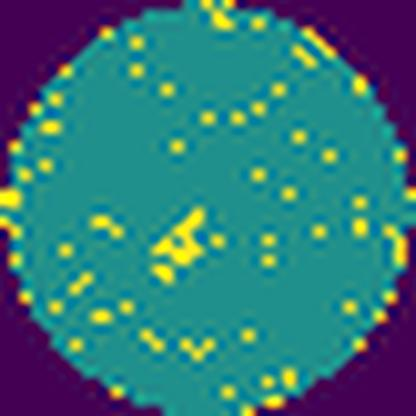Edge-Loc: (152, 205, 210, 271)
